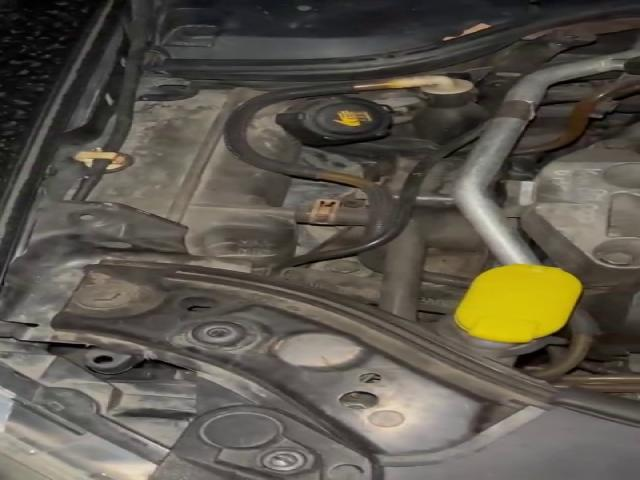antifreeze_tank: (88, 87, 298, 263), (247, 95, 393, 162)
